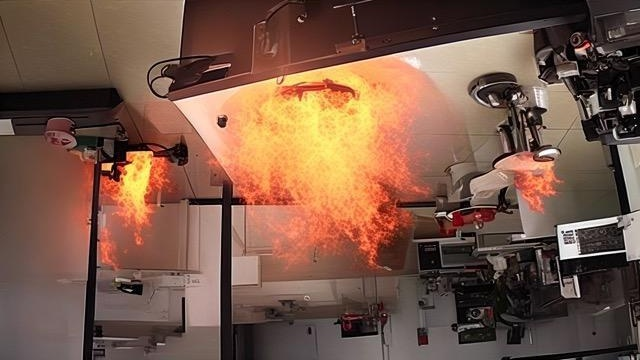fire: (240, 62, 424, 275), (84, 145, 174, 270), (484, 145, 571, 220)
